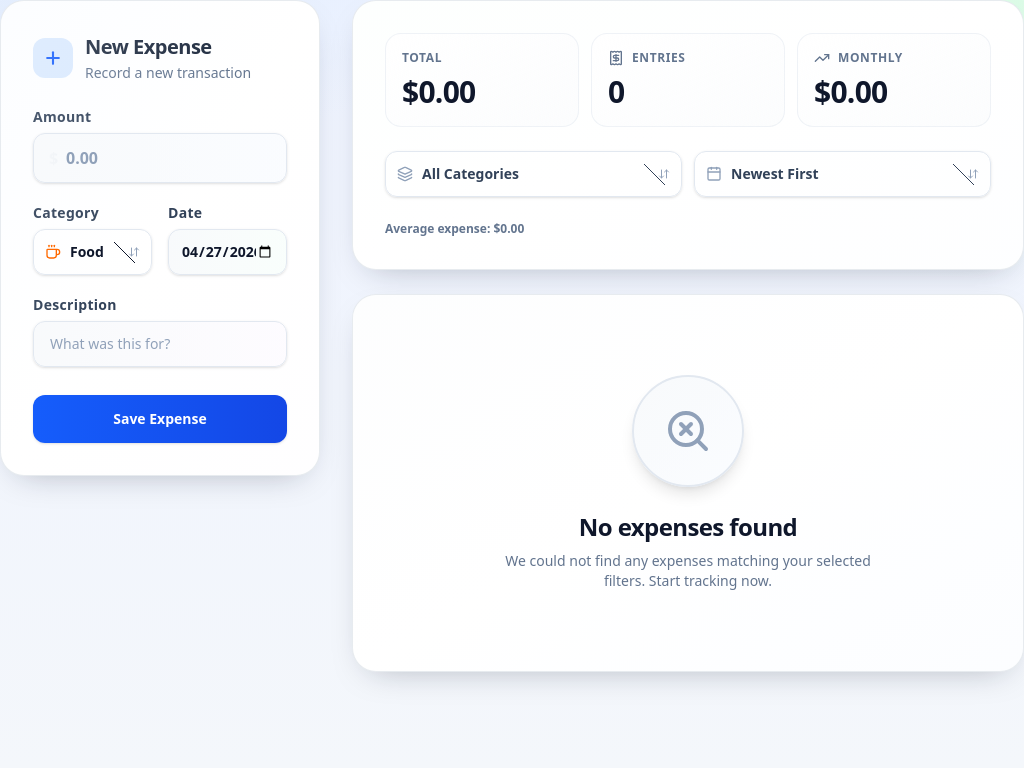
ExpenseDashboard › submits a new expense successfully
The width and height of the screenshot is (1024, 768).
Note: Fill form
Type "25.00" into the number field labelled "Amount". click: [160, 158]
box: x1=33 y1=133 x2=287 y2=183
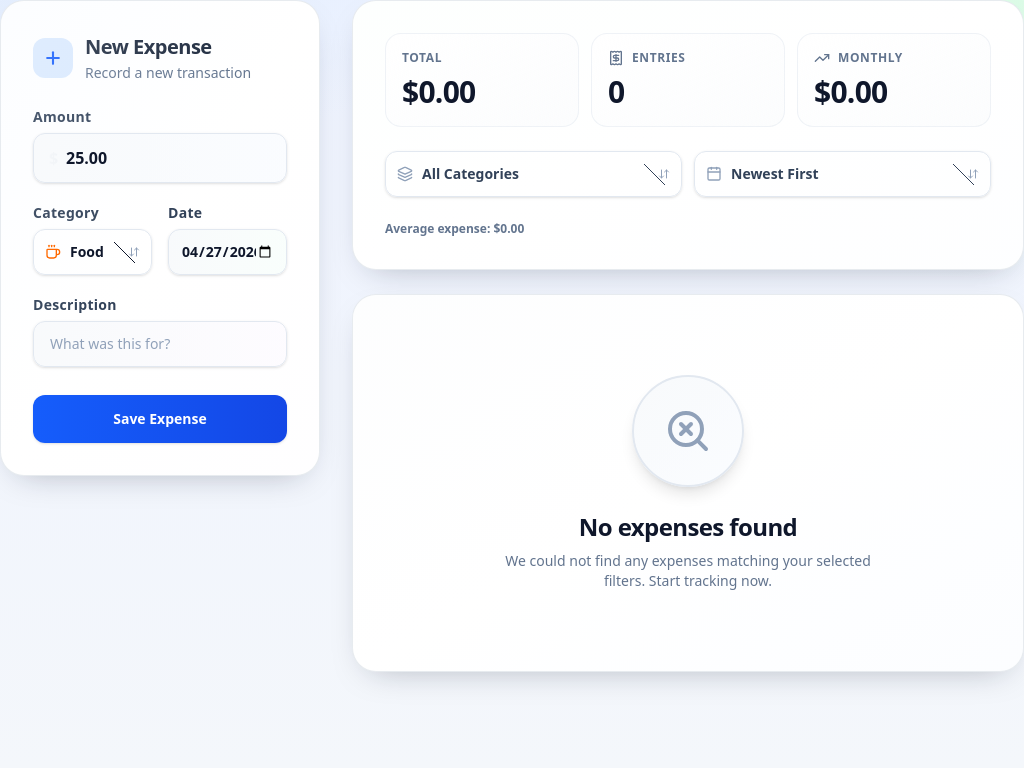
Type "Movie" into the field labelled "Description". click: [160, 344]
box: x1=33 y1=321 x2=287 y2=367
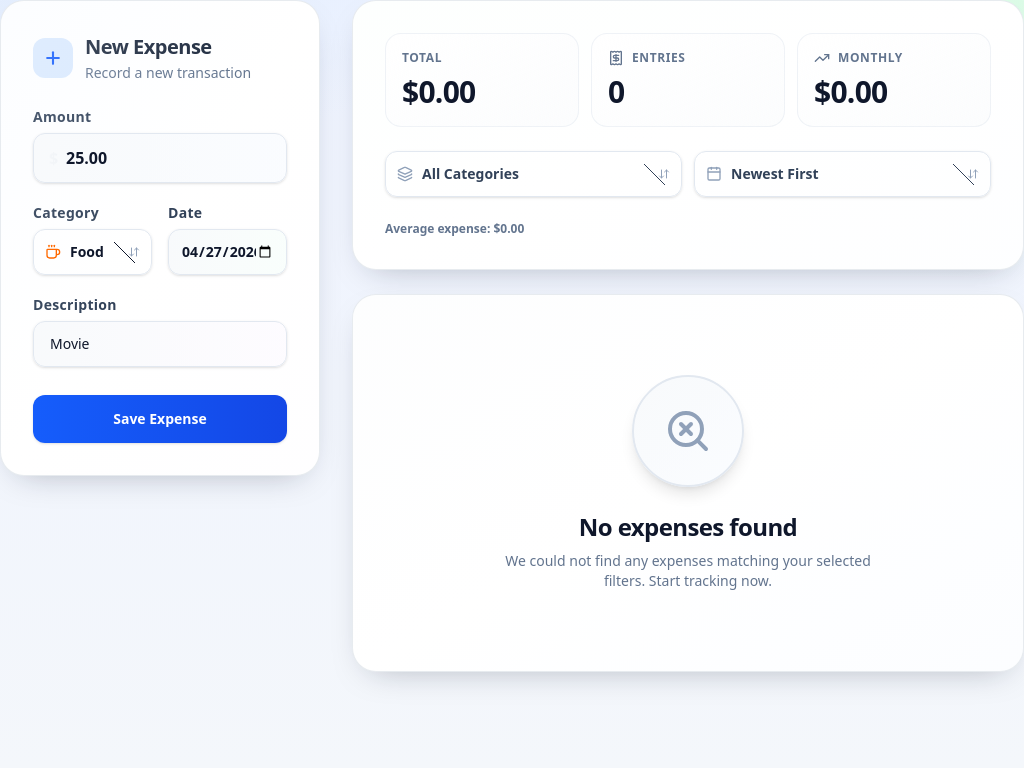
Select "Entertainment" in the dropdown labelled "Category". click: [92, 252]
box: x1=33 y1=229 x2=152 y2=275
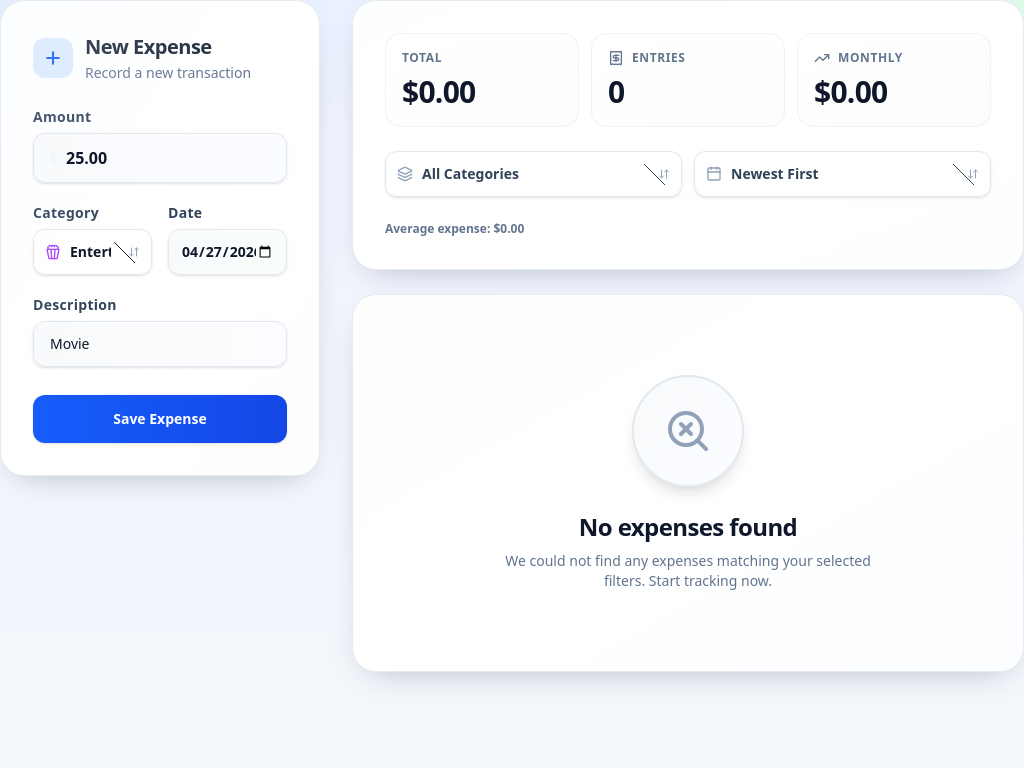
Type "2024-05-26" into the date field labelled "Date". click: [228, 252]
box: x1=168 y1=229 x2=287 y2=275
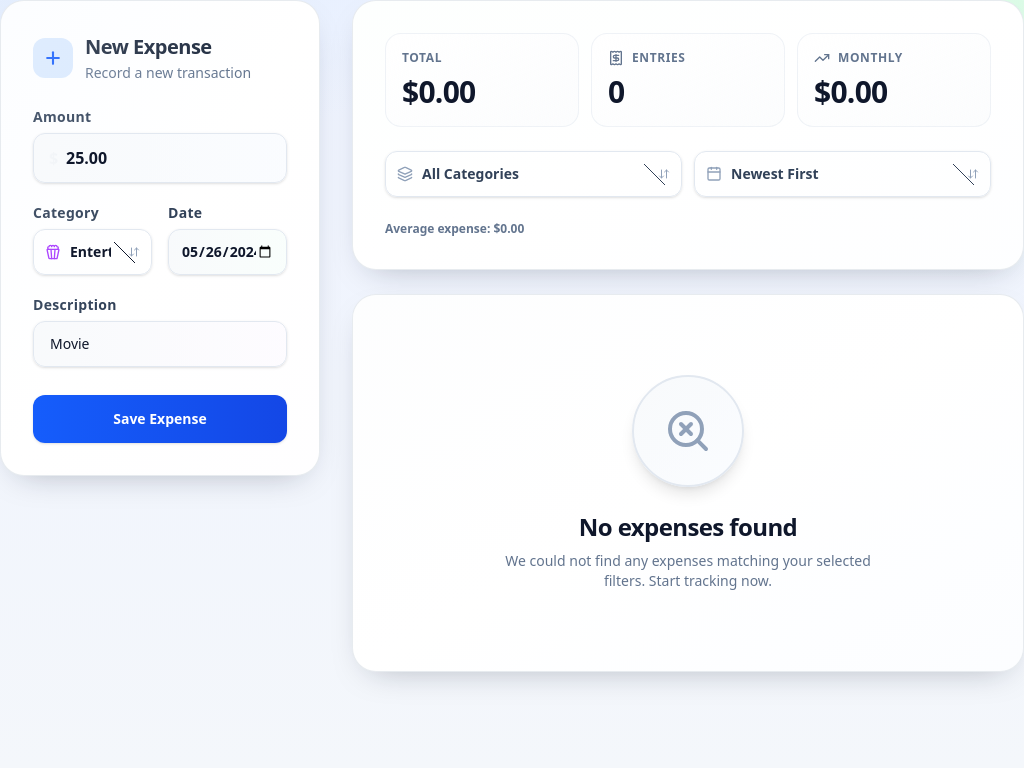
Click the button "Save Expense". click: [160, 419]
box: x1=33 y1=395 x2=287 y2=443
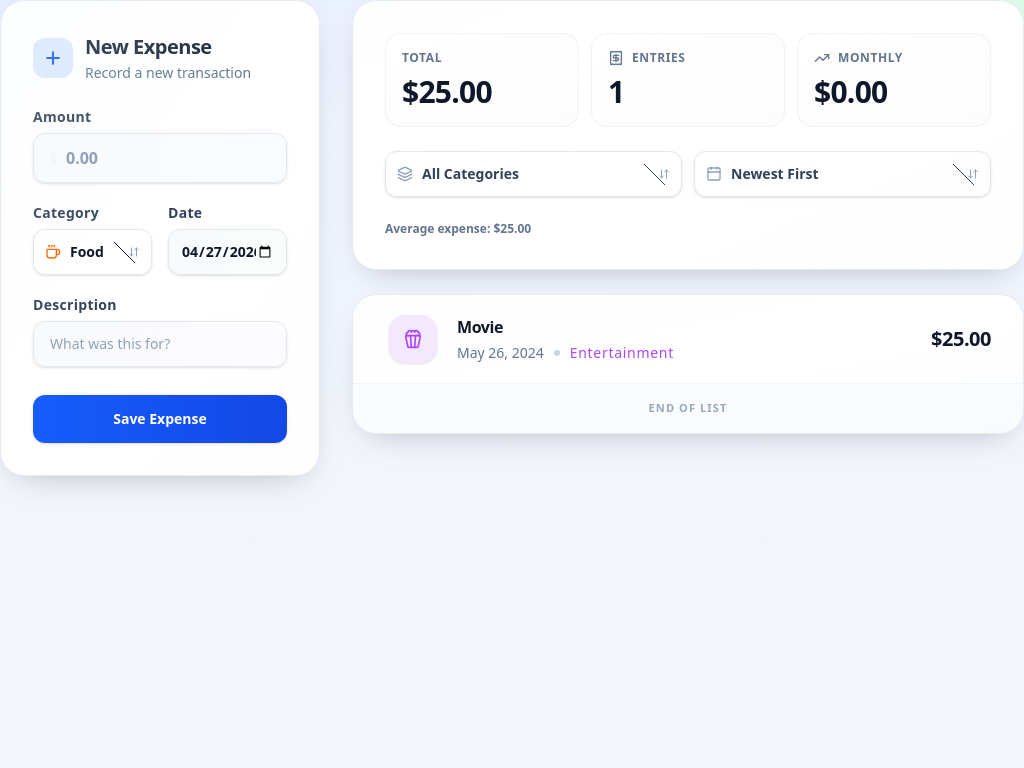
Expected: the text "$25.00" is shown 2 times, x1=402 y1=71 x2=492 y2=112; x1=931 y1=325 x2=991 y2=353
Expected: the text "Movie" is shown, x1=457 y1=316 x2=503 y2=338
